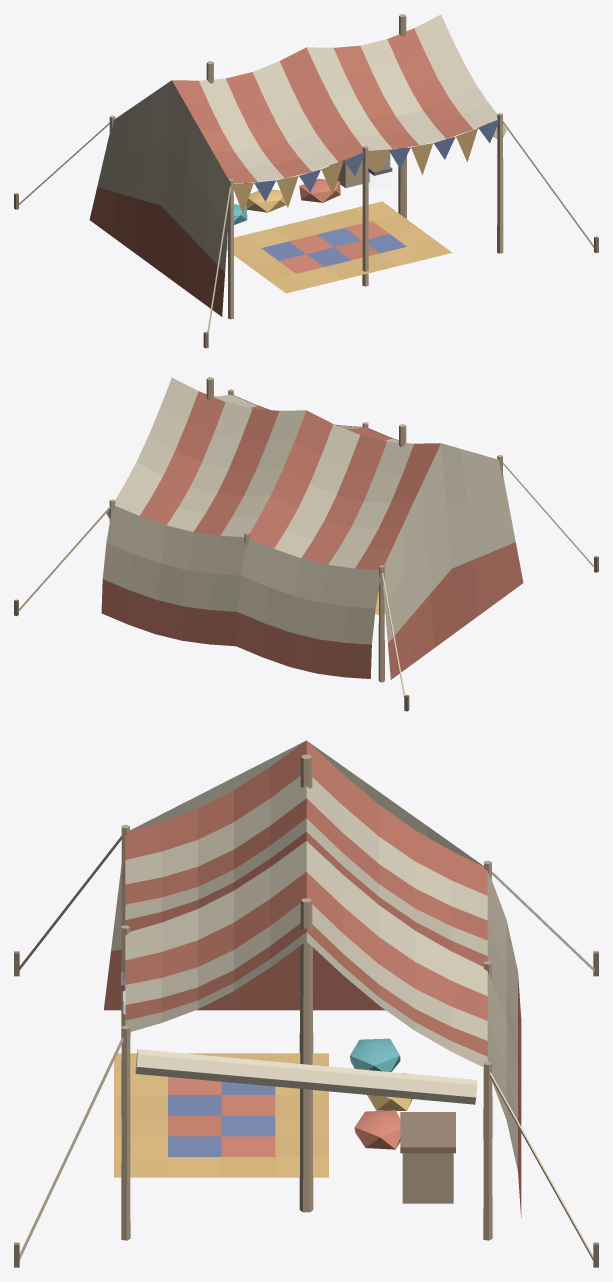
The model's file is tienda_a.glb.
3 views of the same model, one above another, from view 1: azimuth 30°, elevation 25°; view 2: azimuth 150°, elevation 25°; view 3: azimuth 270°, elevation 25° (orthographic). The views are drawn at different scales.
Visible parts, largest first — view 1: tienda_a_tela, tienda_a; view 2: tienda_a_tela, tienda_a; view 3: tienda_a_tela, tienda_a.
Boxes of the visible parts, x1,y1,x2,y2 form: tienda_a_tela: (89, 14, 498, 316); tienda_a: (14, 14, 598, 348); tienda_a_tela: (101, 377, 523, 679); tienda_a: (14, 377, 598, 711); tienda_a_tela: (104, 740, 521, 1217); tienda_a: (14, 754, 598, 1267).
Bounding box in the file's own units: 6.14 × 3.02 × 5.17.
